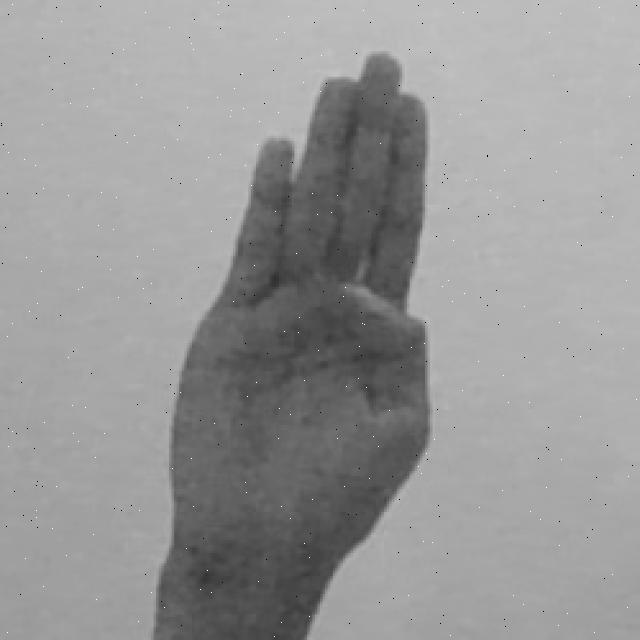B: (164, 48, 435, 640)
